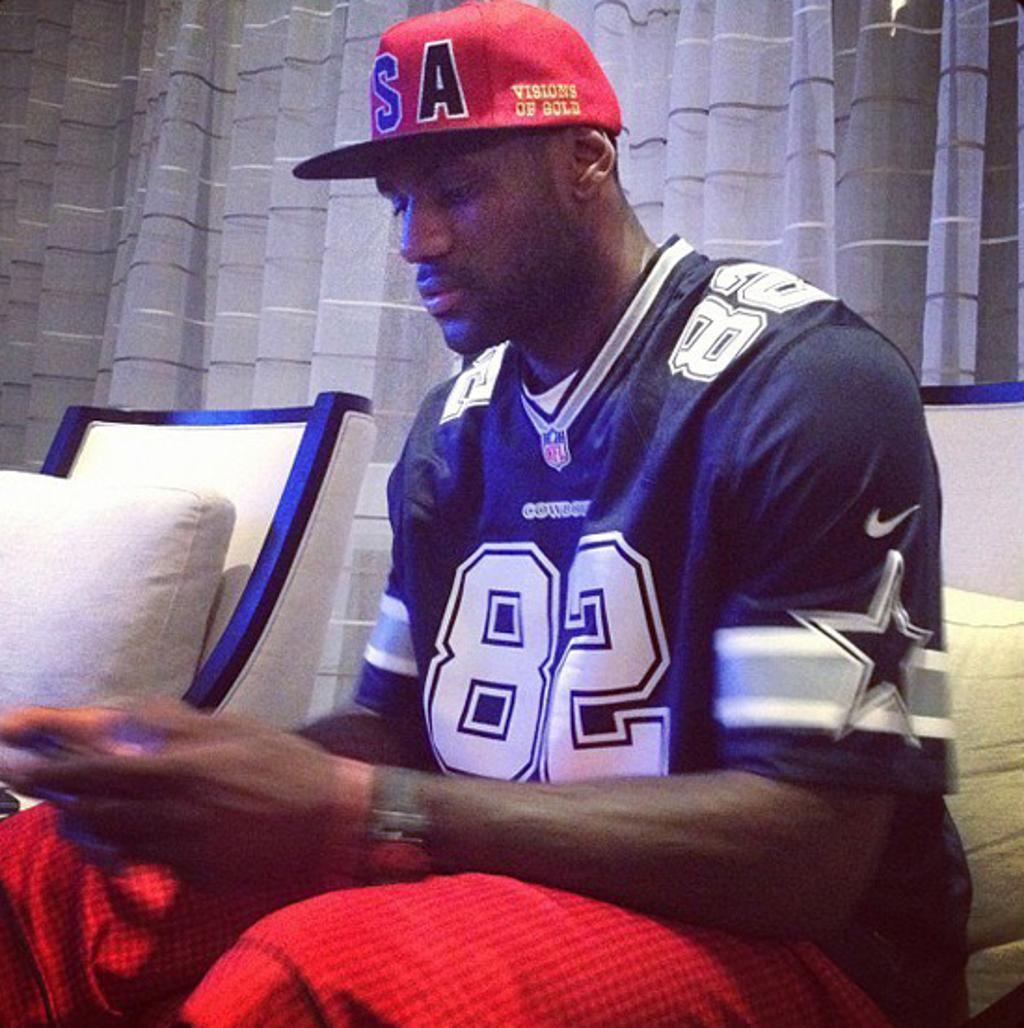face: (396, 126, 547, 353)
